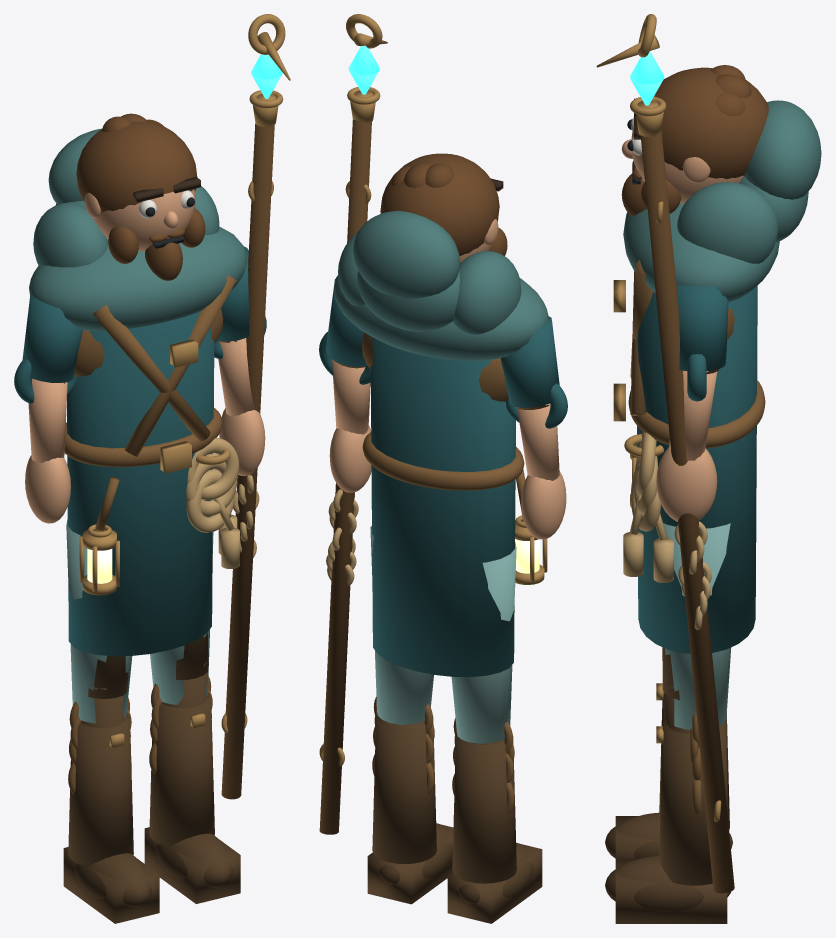
File: 3D模型 char_fisher.glb
3 views of the same model, side by side, from view 1: azimuth 30°, elevation 25°; view 2: azimuth 150°, elevation 25°; view 3: azimuth 270°, elevation 25° (orthographic). The views are drawn at different scales.
Visible parts, largest first — view 1: char_fisher_tunic, char_fisher_mantle, char_fisher_staffpole, char_fisher_boot_L, char_fisher_boot_R, char_fisher_hair, char_fisher_hoodbun_L, char_fisher_sleeve_L, char_fisher_pant_L, char_fisher_arml_L, char_fisher_foot_L, char_fisher_foot_R (+30 smaller); view 2: char_fisher_tunic, char_fisher_staffpole, char_fisher_boot_L, char_fisher_boot_R, char_fisher_hoodtop, char_fisher_mantle, char_fisher_hair, char_fisher_pant_L, char_fisher_hoodbun_L, char_fisher_sleeve_L, char_fisher_belt, char_fisher_pant_R (+18 smaller); view 3: char_fisher_tunic, char_fisher_staffpole, char_fisher_hair, char_fisher_boot_R, char_fisher_hoodbun_R, char_fisher_mantle, char_fisher_hoodtop, char_fisher_pant_R, char_fisher_sleeve_R, char_fisher_hand_R, char_fisher_foot_R, char_fisher_bootfoot_R (+23 smaller).
Part boxes in pixels (x1,y1,x2,y2): char_fisher_tunic: [67, 311, 214, 656]; char_fisher_mantle: [29, 226, 247, 331]; char_fisher_staffpole: [221, 123, 274, 799]; char_fisher_boot_L: [68, 713, 133, 866]; char_fisher_boot_R: [149, 693, 214, 846]; char_fisher_hair: [76, 121, 197, 211]; char_fisher_hoodbun_L: [33, 203, 108, 267]; char_fisher_sleeve_L: [22, 293, 82, 382]; char_fisher_pant_L: [66, 519, 132, 723]; char_fisher_arml_L: [28, 378, 67, 462]; char_fisher_foot_L: [63, 847, 159, 923]; char_fisher_foot_R: [144, 827, 240, 903]; char_fisher_tunic: [370, 336, 515, 676]; char_fisher_staffpole: [319, 119, 371, 834]; char_fisher_boot_L: [452, 734, 516, 883]; char_fisher_boot_R: [372, 713, 436, 863]; char_fisher_hoodtop: [353, 210, 460, 298]; char_fisher_mantle: [333, 275, 548, 360]; char_fisher_hair: [380, 153, 499, 256]; char_fisher_pant_L: [451, 542, 516, 743]; char_fisher_hoodbun_L: [452, 251, 521, 334]; char_fisher_sleeve_L: [500, 316, 559, 407]; char_fisher_belt: [362, 432, 524, 490]; char_fisher_pant_R: [370, 526, 433, 724]; char_fisher_tunic: [637, 286, 757, 653]; char_fisher_staffpole: [640, 130, 734, 893]; char_fisher_hair: [654, 67, 768, 179]; char_fisher_boot_R: [659, 717, 728, 885]; char_fisher_hoodbun_R: [677, 182, 778, 263]; char_fisher_mantle: [623, 203, 779, 302]; char_fisher_hoodtop: [744, 100, 821, 199]; char_fisher_pant_R: [663, 523, 731, 729]; char_fisher_sleeve_R: [676, 284, 728, 370]; char_fisher_hand_R: [656, 447, 717, 521]; char_fisher_foot_R: [615, 859, 727, 923]; char_fisher_bootfoot_R: [605, 855, 731, 911].
Size of the model in its own units: 0.617 by 2.02 by 0.4428.
